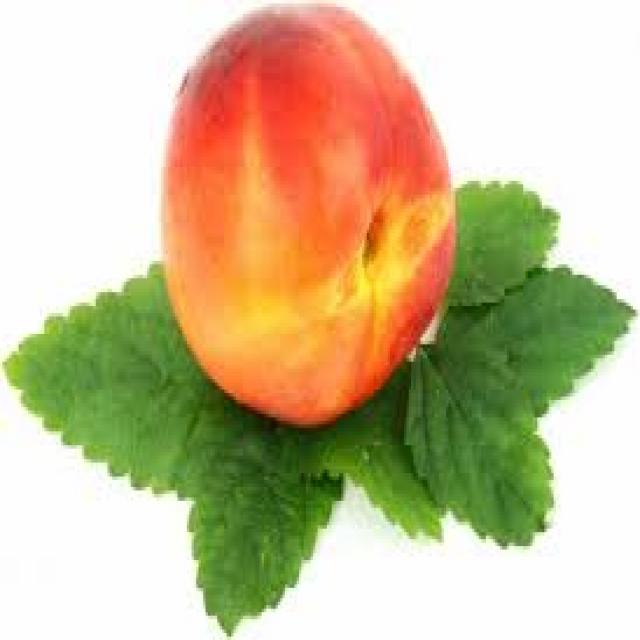organic waste: (159, 0, 458, 435), (0, 257, 161, 494), (178, 410, 341, 633), (437, 261, 638, 428), (406, 337, 556, 553), (262, 424, 448, 560), (453, 178, 561, 302)
